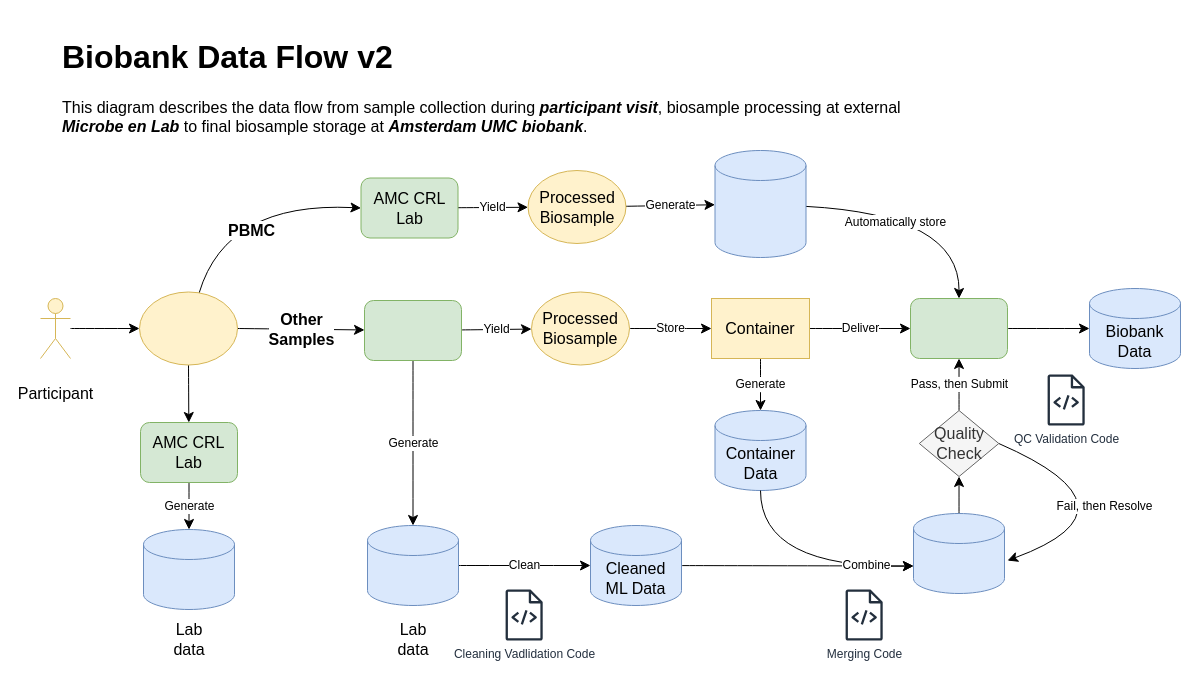
Some shapes in this 1198 by 678 pixel diagram are drawn without their labels. Each missing label, with the box of its shape:
AMC Biobank: (910, 298, 1008, 358)
Microbe en Lab (ML): (364, 300, 462, 360)
PBMC Processing Data: (714, 150, 806, 258)
Raw Biosample: (138, 291, 238, 365)
Raw CDL Data: (142, 528, 234, 610)
Raw ML Data: (366, 524, 458, 606)
Submission Data: (912, 512, 1004, 594)
